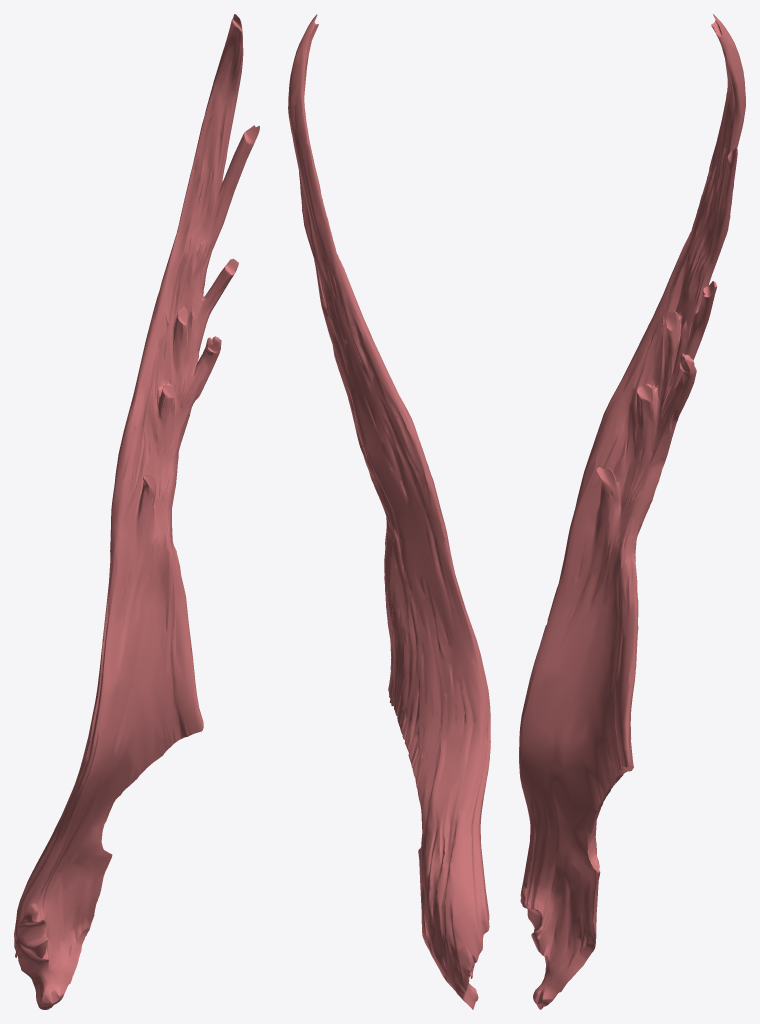
3 renders of one model, left to right at view 1: azimuth 30°, elevation 25°; view 2: azimuth 150°, elevation 25°; view 3: azimuth 330°, elevation 25°, orthographic. The views are drawn at different scales.
Visible parts, largest first — view 1: FJ1527M; view 2: FJ1527M; view 3: FJ1527M.
Boxes of the visible parts, <box> form: FJ1527M: <box>14,14,259,1009</box>; FJ1527M: <box>288,14,490,1009</box>; FJ1527M: <box>519,14,745,1009</box>.
Size of the model in its own units: 0.0967 by 0.4067 by 0.0445.
